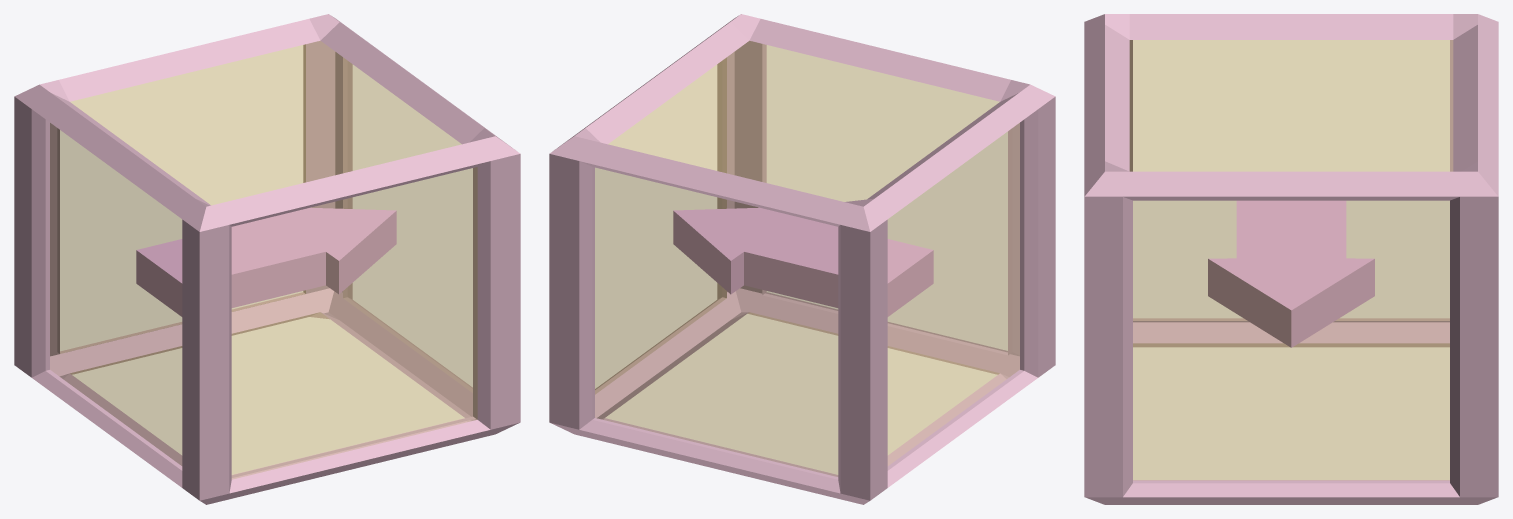
The model's file is RotaterBox1.fbx.
3 renders of one model, left to right at view 1: azimuth 30°, elevation 25°; view 2: azimuth 150°, elevation 25°; view 3: azimuth 270°, elevation 25°, orthographic. The views are drawn at different scales.
Parts seen in each view (by area): view 1: Cube.004, Cube.003; view 2: Cube.004, Cube.003; view 3: Cube.004, Cube.003.
Boxes of the visible parts, x1=… form: Cube.004: x1=14, y1=14, x2=520, y2=504; Cube.003: x1=136, y1=207, x2=396, y2=316; Cube.004: x1=549, y1=14, x2=1055, y2=504; Cube.003: x1=673, y1=207, x2=933, y2=316; Cube.004: x1=1084, y1=14, x2=1498, y2=504; Cube.003: x1=1208, y1=200, x2=1374, y2=347.
Size of the model in its own units: 100 by 88.81 by 100.
